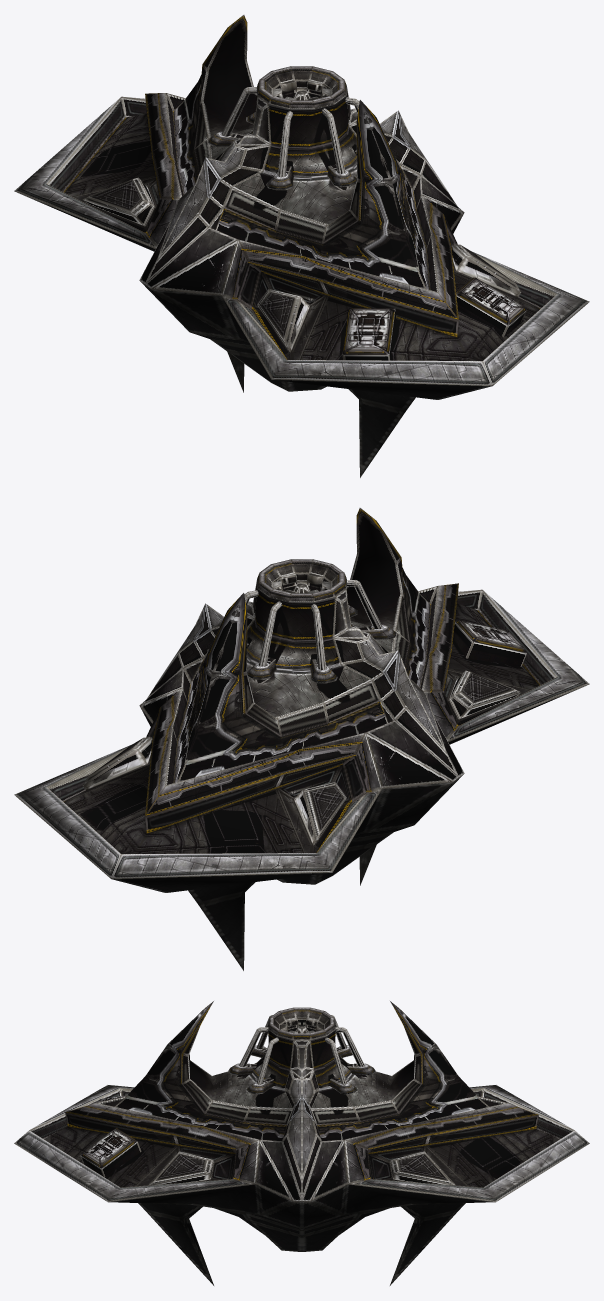
File: Level4Vertical1.fbx
3 renders of one model, top to bottom at view 1: azimuth 30°, elevation 25°; view 2: azimuth 150°, elevation 25°; view 3: azimuth 270°, elevation 25°, orthographic. The views are drawn at different scales.
Parts seen in each view (by area): view 1: Mesh_002; view 2: Mesh_002; view 3: Mesh_002.
Part boxes in pixels (bbox=[...]): Mesh_002: bbox=[14, 15, 589, 477]; Mesh_002: bbox=[14, 508, 589, 970]; Mesh_002: bbox=[14, 1001, 589, 1285].
Size of the model in its own units: 12.01 by 13.65 by 24.89.
Materials: 1 (1 with a texture image).
